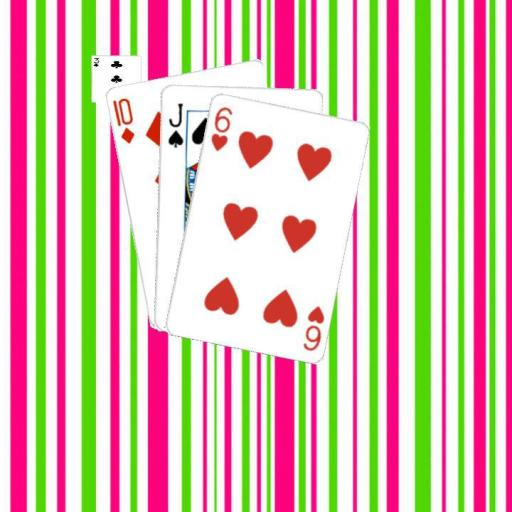10D: (109, 94, 136, 145)
6H: (299, 302, 326, 352), (207, 103, 234, 152)
JS: (164, 100, 184, 149)
